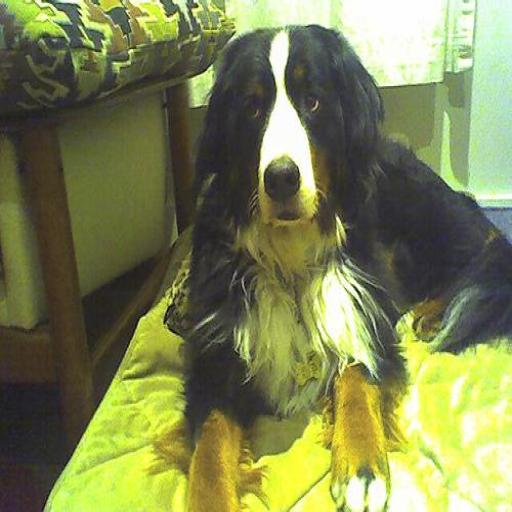dog_face: (208, 30, 364, 229)
